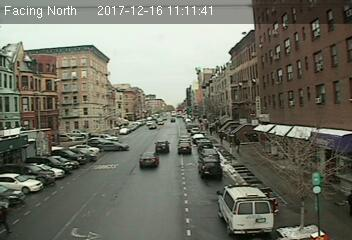car: (198, 156, 223, 180), (139, 151, 159, 167), (155, 139, 170, 154), (177, 141, 193, 155), (199, 148, 221, 157)
police: (217, 183, 275, 237)
